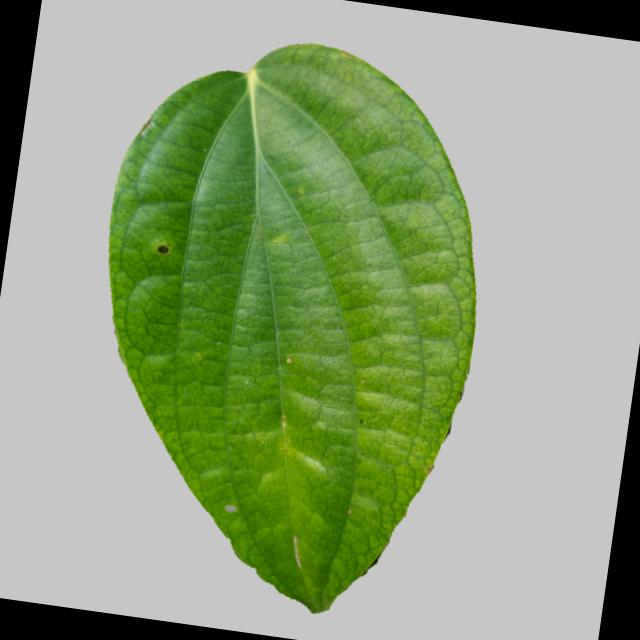healthy: (53, 19, 522, 638)
